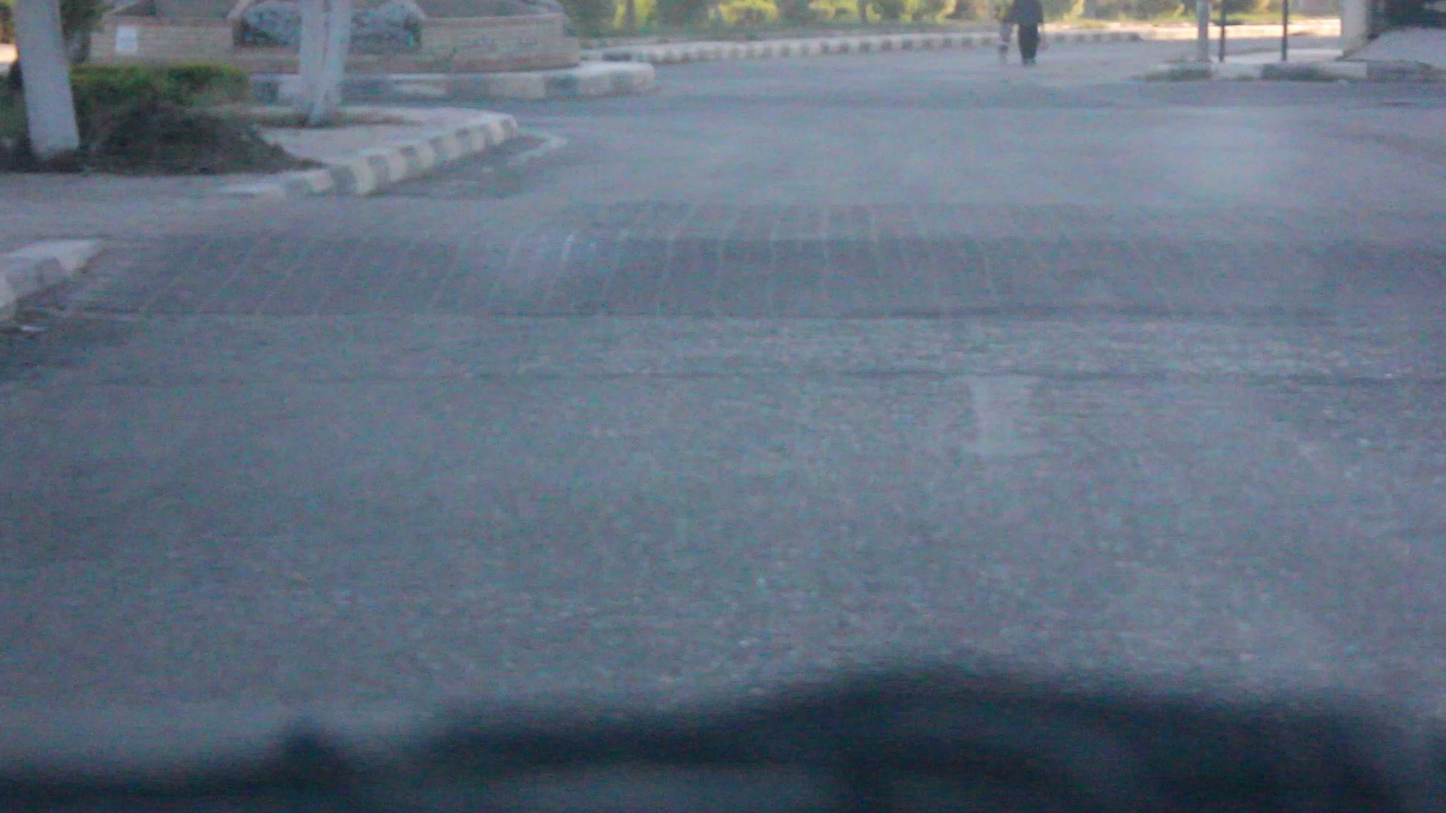Bump: (26, 190, 1445, 328)
